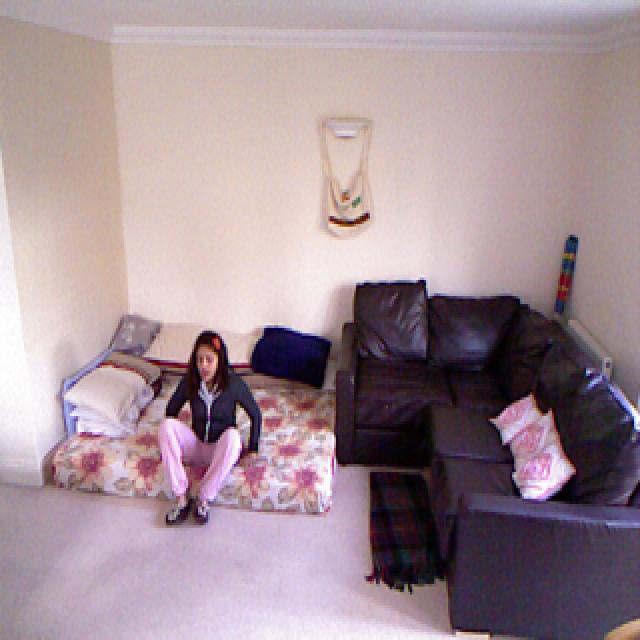sitting: (162, 328, 262, 517)
